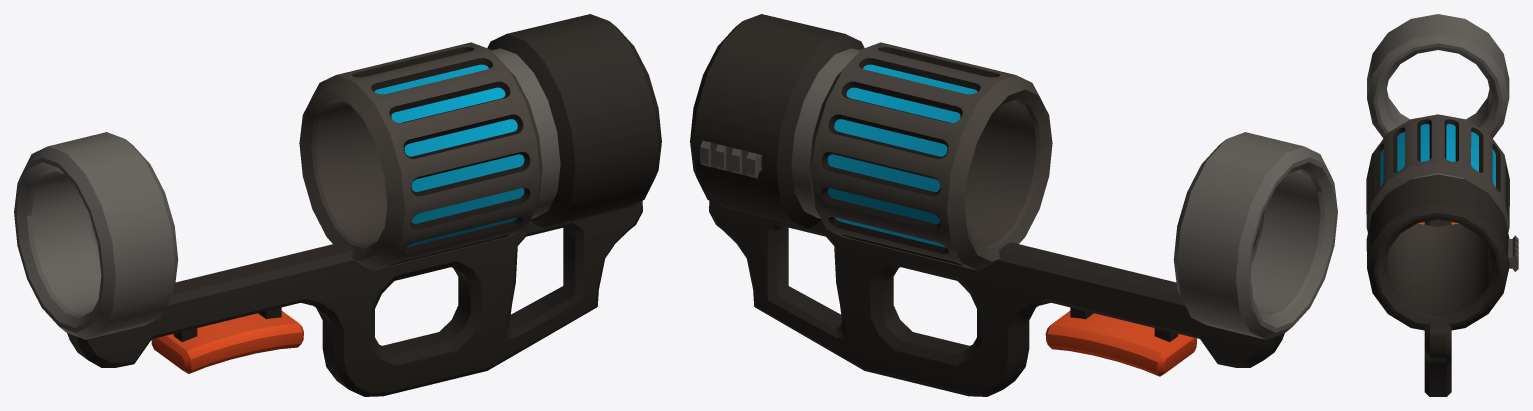
3 views of the same model, side by side, from view 1: azimuth 30°, elevation 25°; view 2: azimuth 150°, elevation 25°; view 3: azimuth 270°, elevation 25° (orthographic). The views are drawn at different scales.
Parts seen in each view (by area): view 1: GL6_Base; view 2: GL6_Base; view 3: GL6_Base.
Part boxes in pixels (bbox=[...]): GL6_Base: bbox=[14, 14, 661, 396]; GL6_Base: bbox=[690, 14, 1337, 396]; GL6_Base: bbox=[1366, 14, 1518, 396].
Bounding box in the file's own units: 63.72 × 33.19 × 20.26.
